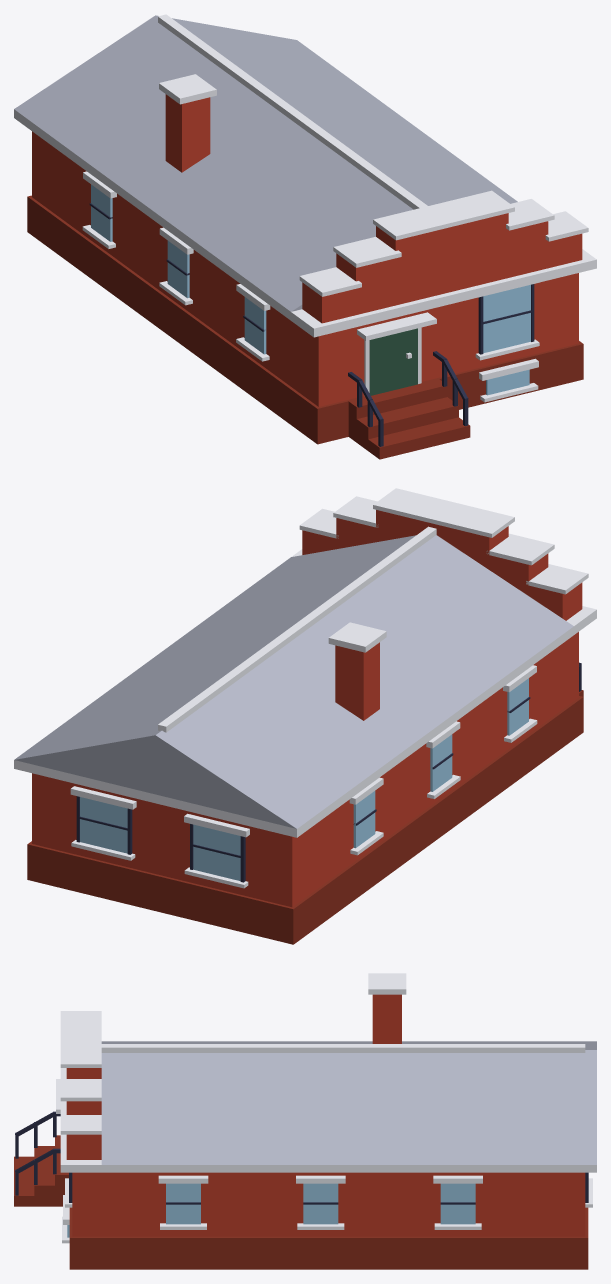
The model's file is house-1x2-1f-dutch-a.glb.
The picture shows the model from 3 angles, top to bottom: view 1: azimuth 30°, elevation 25°; view 2: azimuth 150°, elevation 25°; view 3: azimuth 270°, elevation 25°; orthographic projection. The views are drawn at different scales.
Visible parts, largest first — view 1: house-1x2-1f-dutch-a; view 2: house-1x2-1f-dutch-a; view 3: house-1x2-1f-dutch-a.
Part boxes in pixels (x1,y1,x2,y2): house-1x2-1f-dutch-a: (14, 14, 596, 459); house-1x2-1f-dutch-a: (14, 488, 596, 944); house-1x2-1f-dutch-a: (14, 973, 596, 1269).
Size of the model in its own units: 1 by 0.73 by 2.
1 material, 1 textured.
